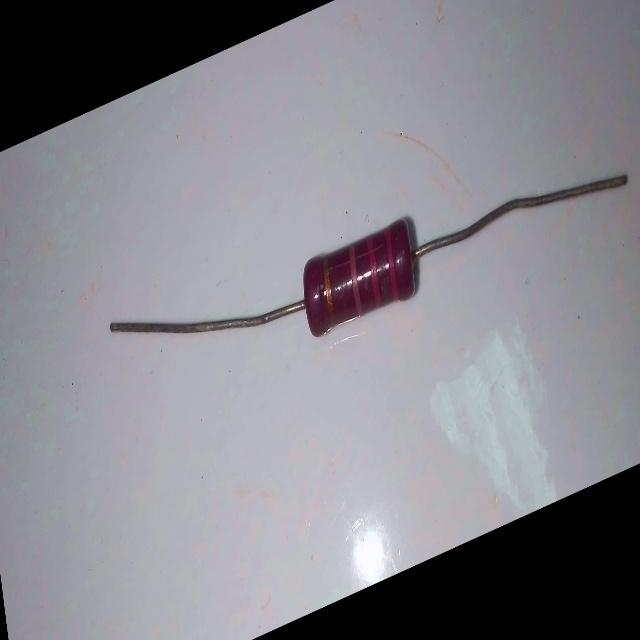Carbon Resistor: (94, 94, 632, 447)
